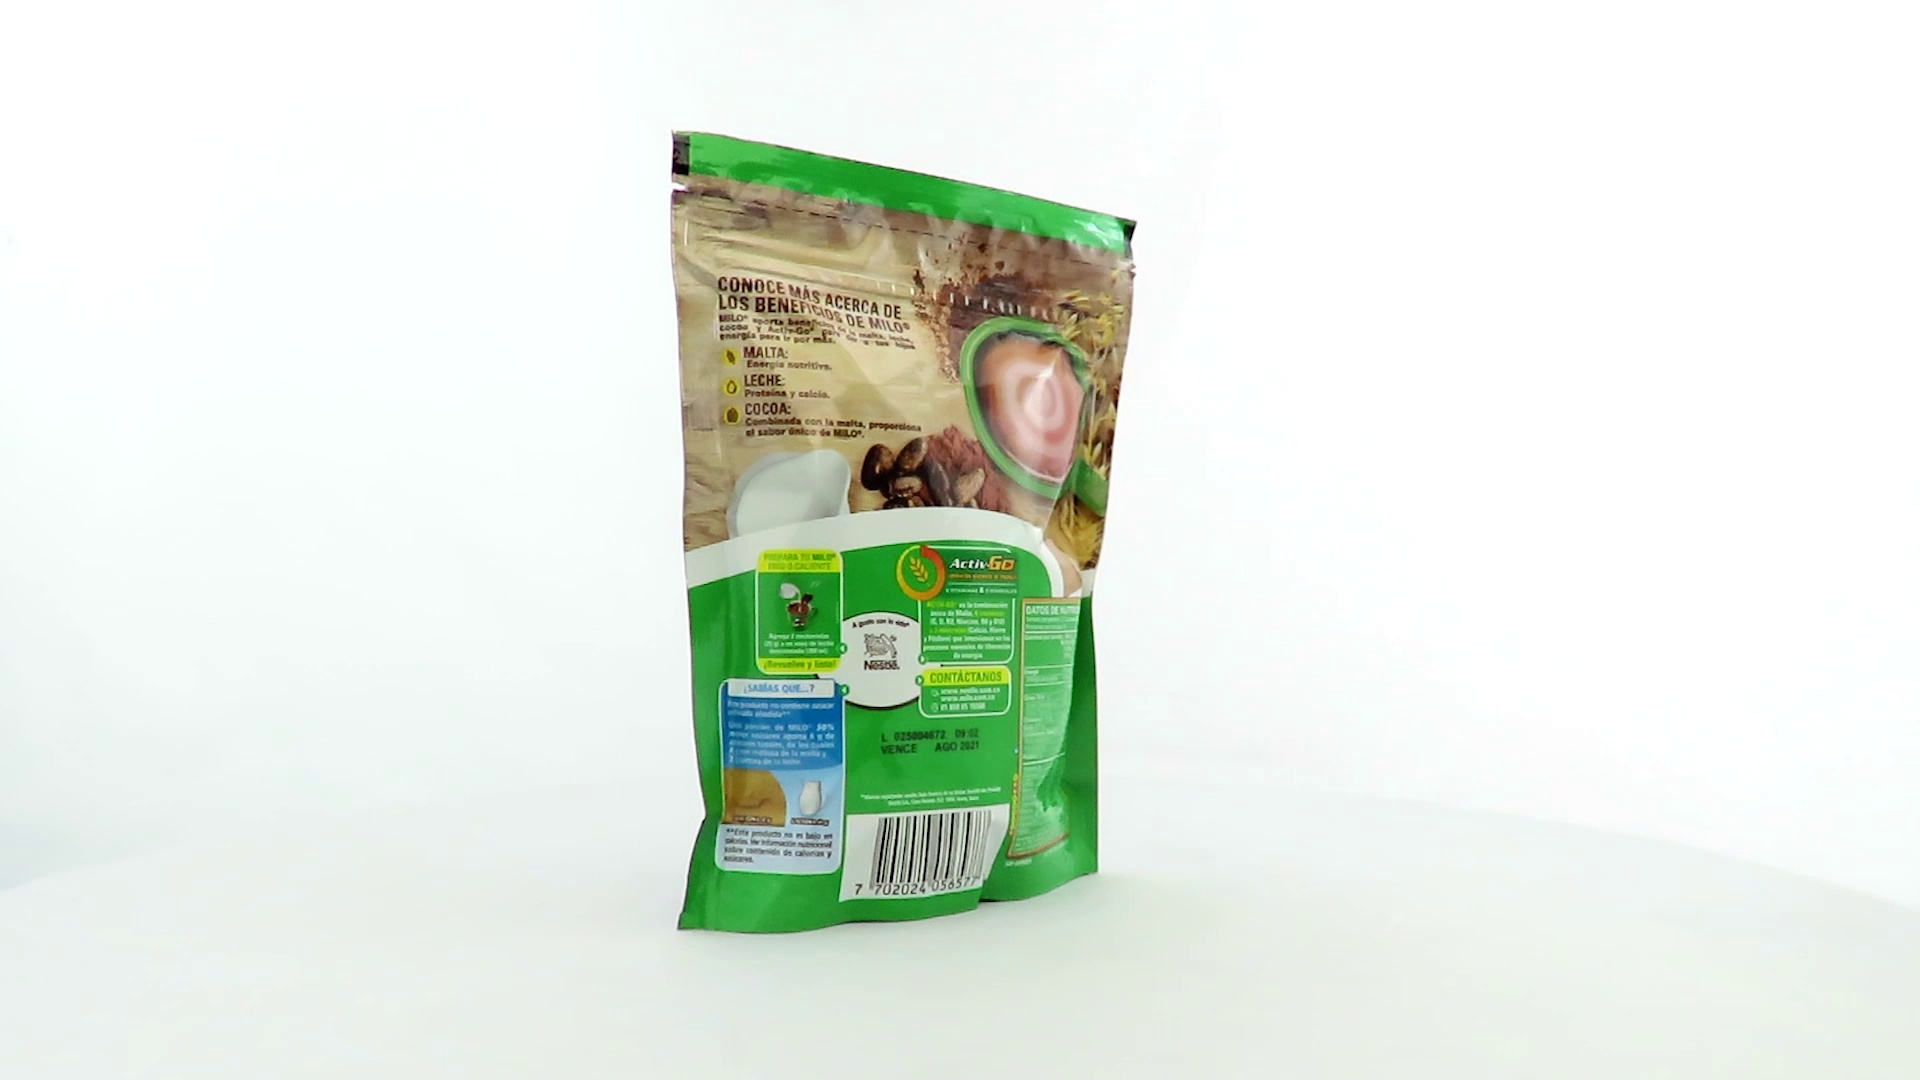COL0170205DYP20000: (665, 124, 1143, 942)
